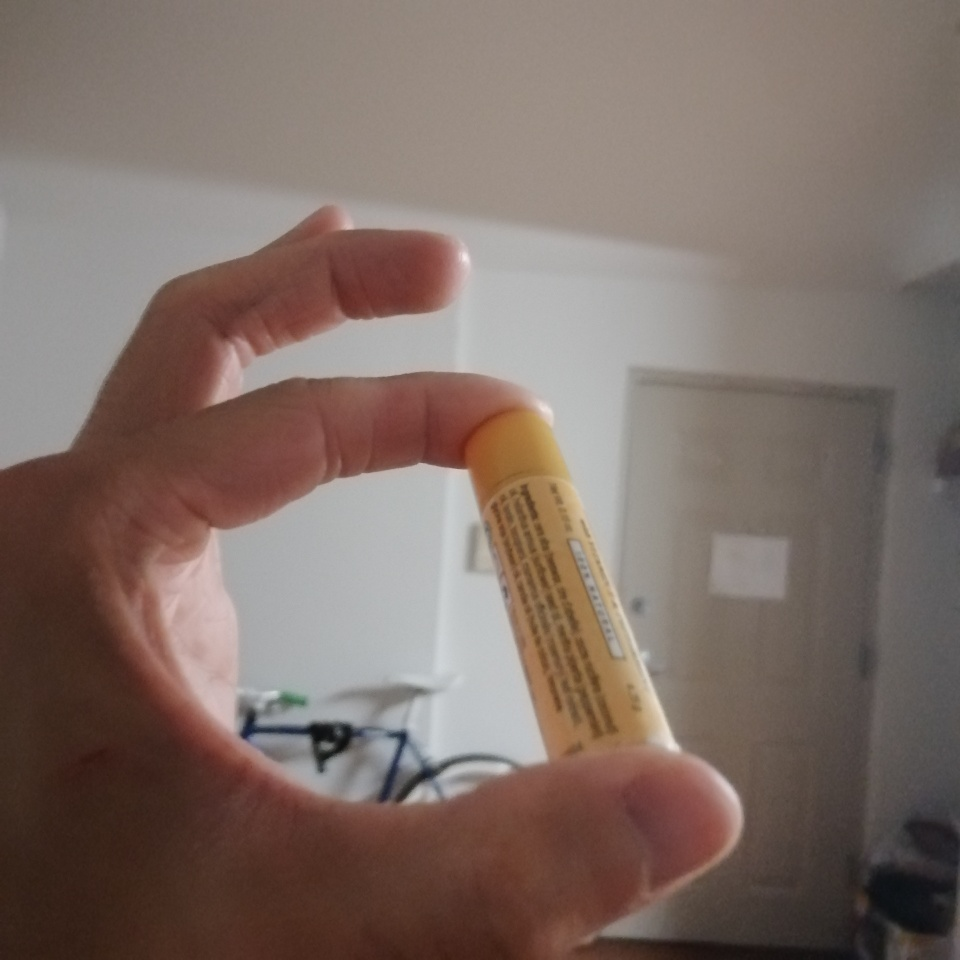chapstick: (464, 407, 681, 764)
